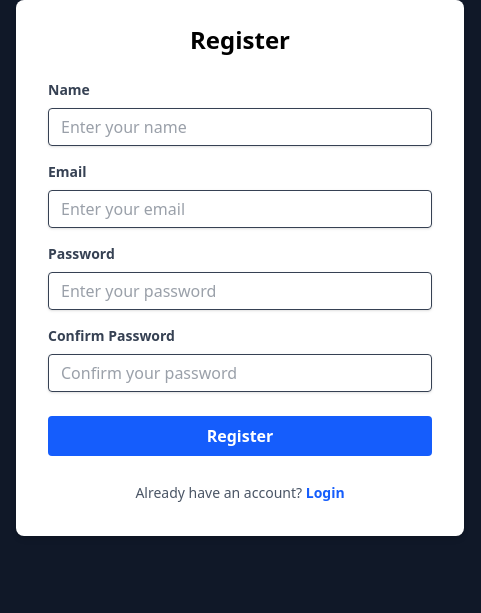
RegisterForm › validation › should show error for password less than 8 characters
The image size is (481, 613).
Type "Test User" into the field labelled "Name" at {"x": 240, "y": 127}, box [48,108,432,146]
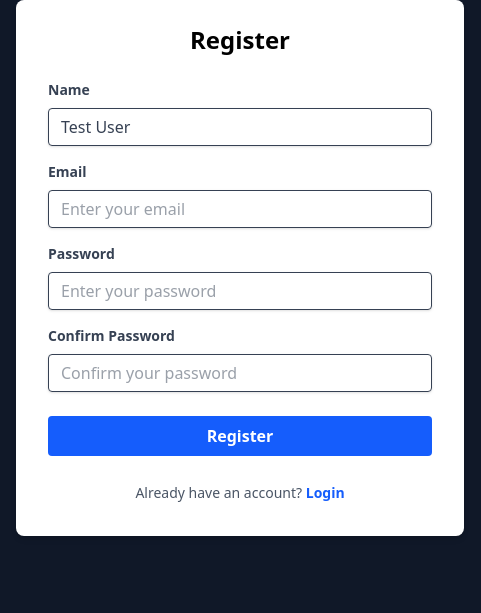
Type "test@example.com" into the field labelled "Email" at {"x": 240, "y": 209}, box [48,190,432,228]
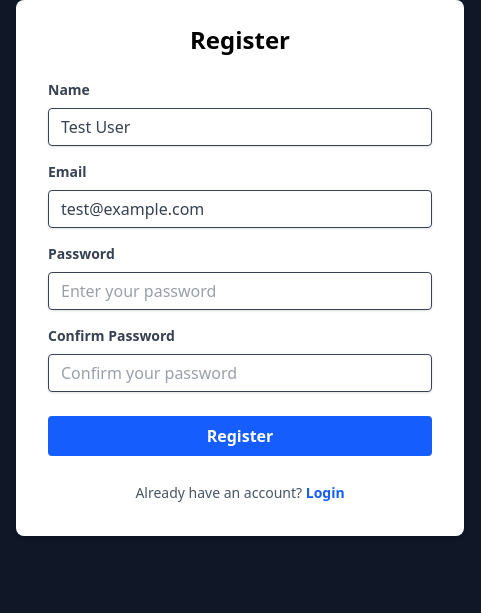
Type "Pass1" into the password field labelled "Password" at {"x": 240, "y": 291}, box [48,272,432,310]
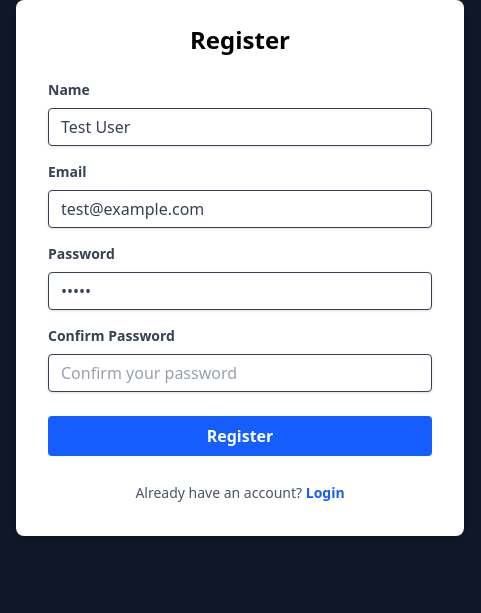
Type "Pass1" into the password field labelled "Confirm Password" at {"x": 240, "y": 373}, box [48,354,432,392]
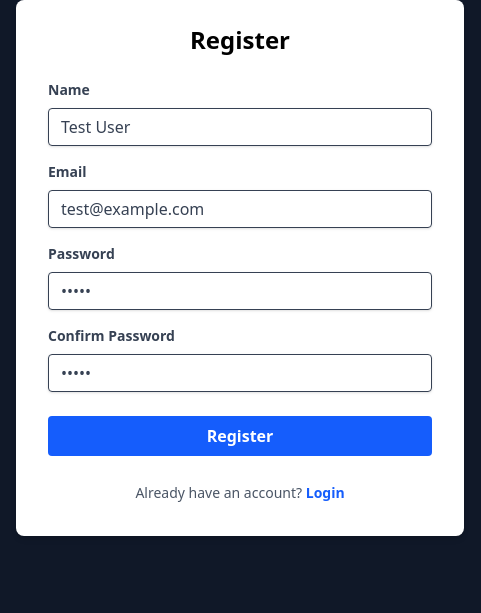
Click the button "Register" at {"x": 240, "y": 436}, box [48,416,432,456]
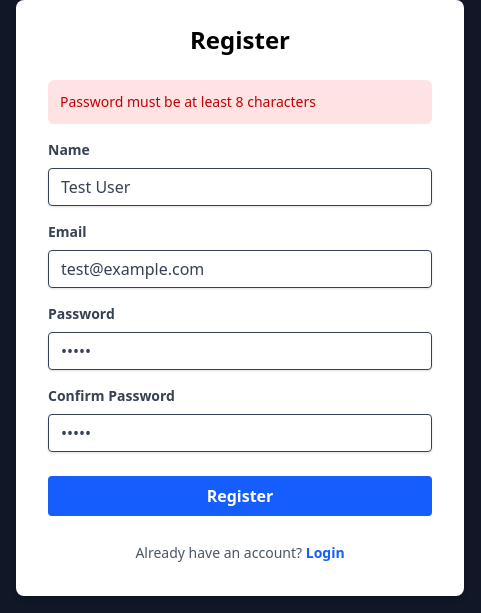
Now the text "Password must be at least 8 characters" is shown, box [48,80,432,124]
